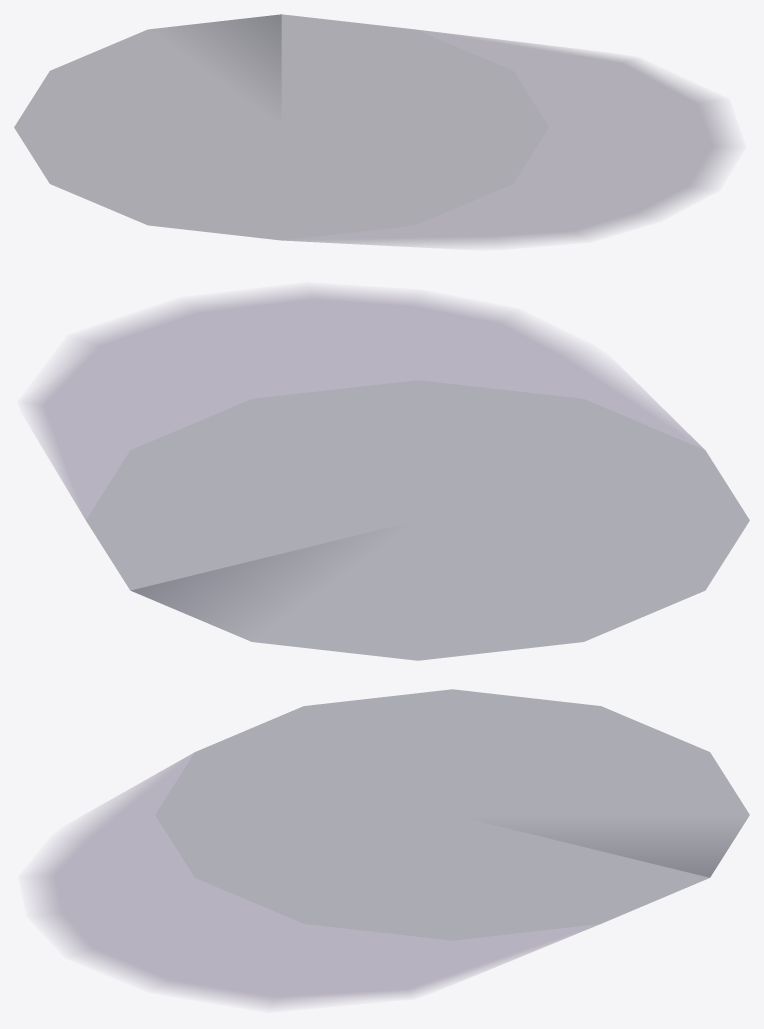
The picture shows the model from 3 angles, top to bottom: view 1: azimuth 30°, elevation 25°; view 2: azimuth 150°, elevation 25°; view 3: azimuth 270°, elevation 25°; orthographic projection. The views are drawn at different scales.
Visible parts, largest first — view 1: Joint_0_Object_0; view 2: Joint_0_Object_0; view 3: Joint_0_Object_0.
Boxes of the visible parts, x1,y1,x2,y2 form: Joint_0_Object_0: [14, 14, 731, 245]; Joint_0_Object_0: [28, 289, 749, 660]; Joint_0_Object_0: [34, 689, 749, 1005].
Size of the model in its own units: 186 by 0 by 178.
1 material, 1 textured.
